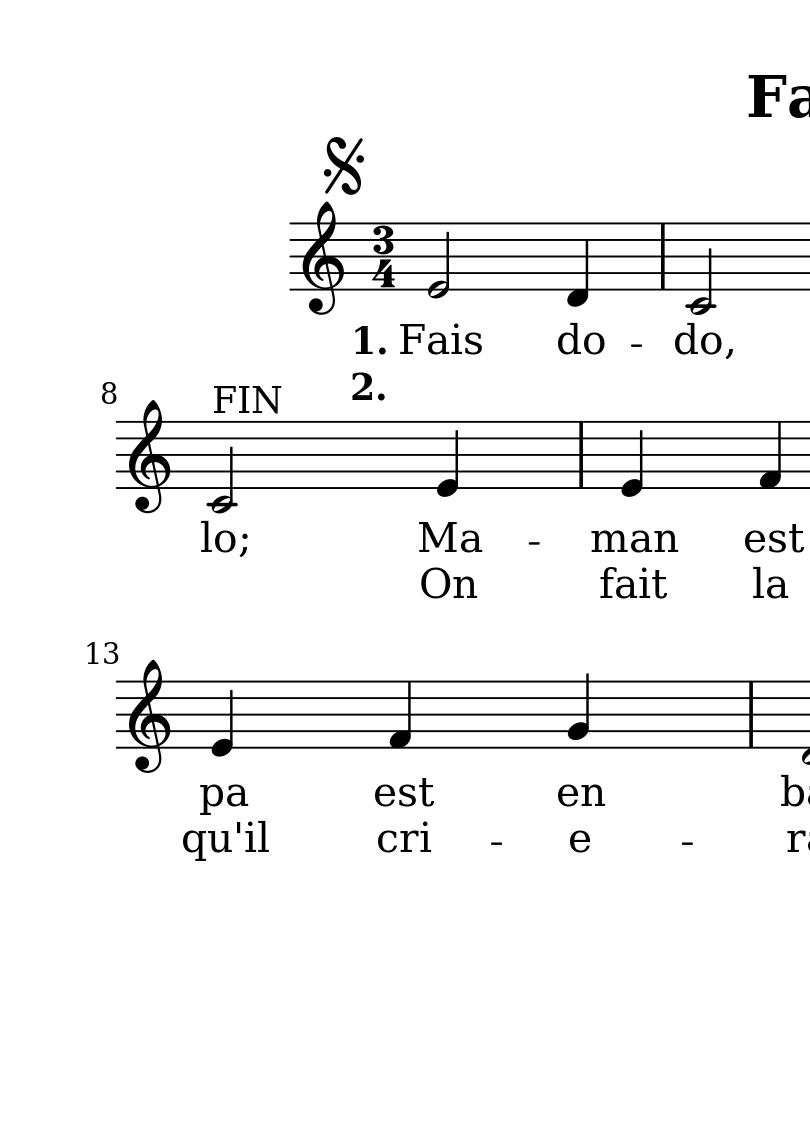1: (83, 638, 106, 667)
2_-2: (208, 419, 236, 515), (688, 220, 715, 317)
2_0: (427, 221, 451, 300)
3: (370, 220, 398, 254), (102, 639, 120, 667)
4: (370, 254, 400, 286)
4_-1: (566, 221, 590, 306)
4_0: (619, 419, 645, 498), (435, 420, 460, 498), (210, 679, 234, 757)
4_1: (757, 420, 784, 491), (387, 679, 414, 749)
4_2: (568, 673, 592, 749)
8: (99, 379, 119, 407)
Gclef: (301, 202, 347, 315), (127, 397, 170, 514), (129, 660, 171, 772)
Segno: (320, 132, 369, 199)
Single_barline: (572, 421, 590, 488), (742, 681, 759, 748), (655, 223, 671, 290)
TimeSig: (369, 222, 404, 290)
